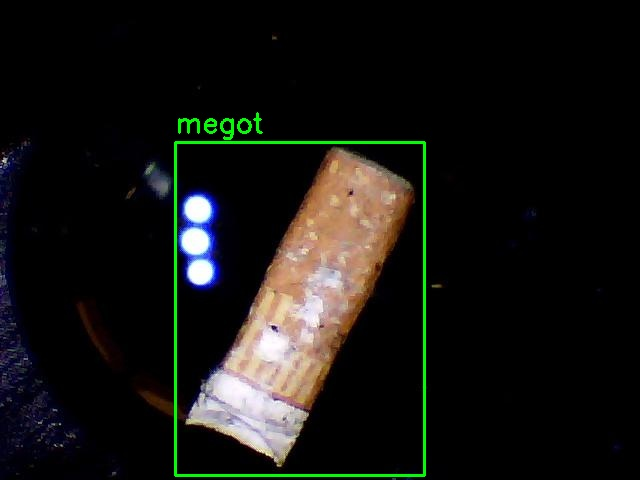megot: (175, 142, 424, 475)
